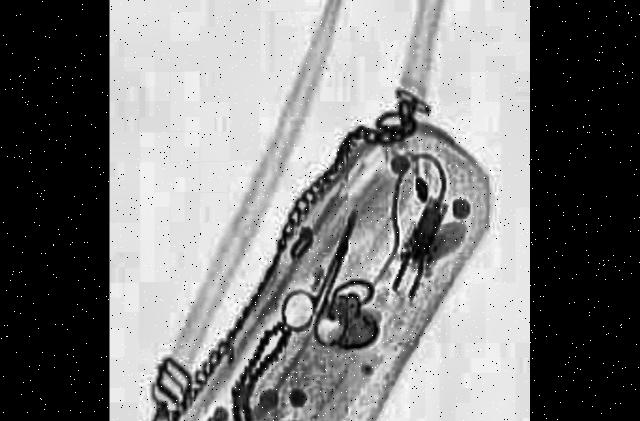Scissors: (274, 180, 380, 372)
